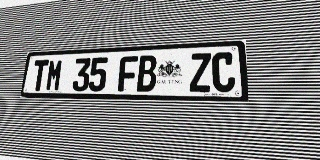3: (72, 58, 91, 91)
5: (88, 57, 108, 91)
B: (137, 55, 157, 92)
C: (212, 52, 235, 92)
F: (118, 56, 138, 92)
M: (45, 59, 64, 91)
T: (30, 60, 49, 91)
Z: (189, 53, 211, 92)
